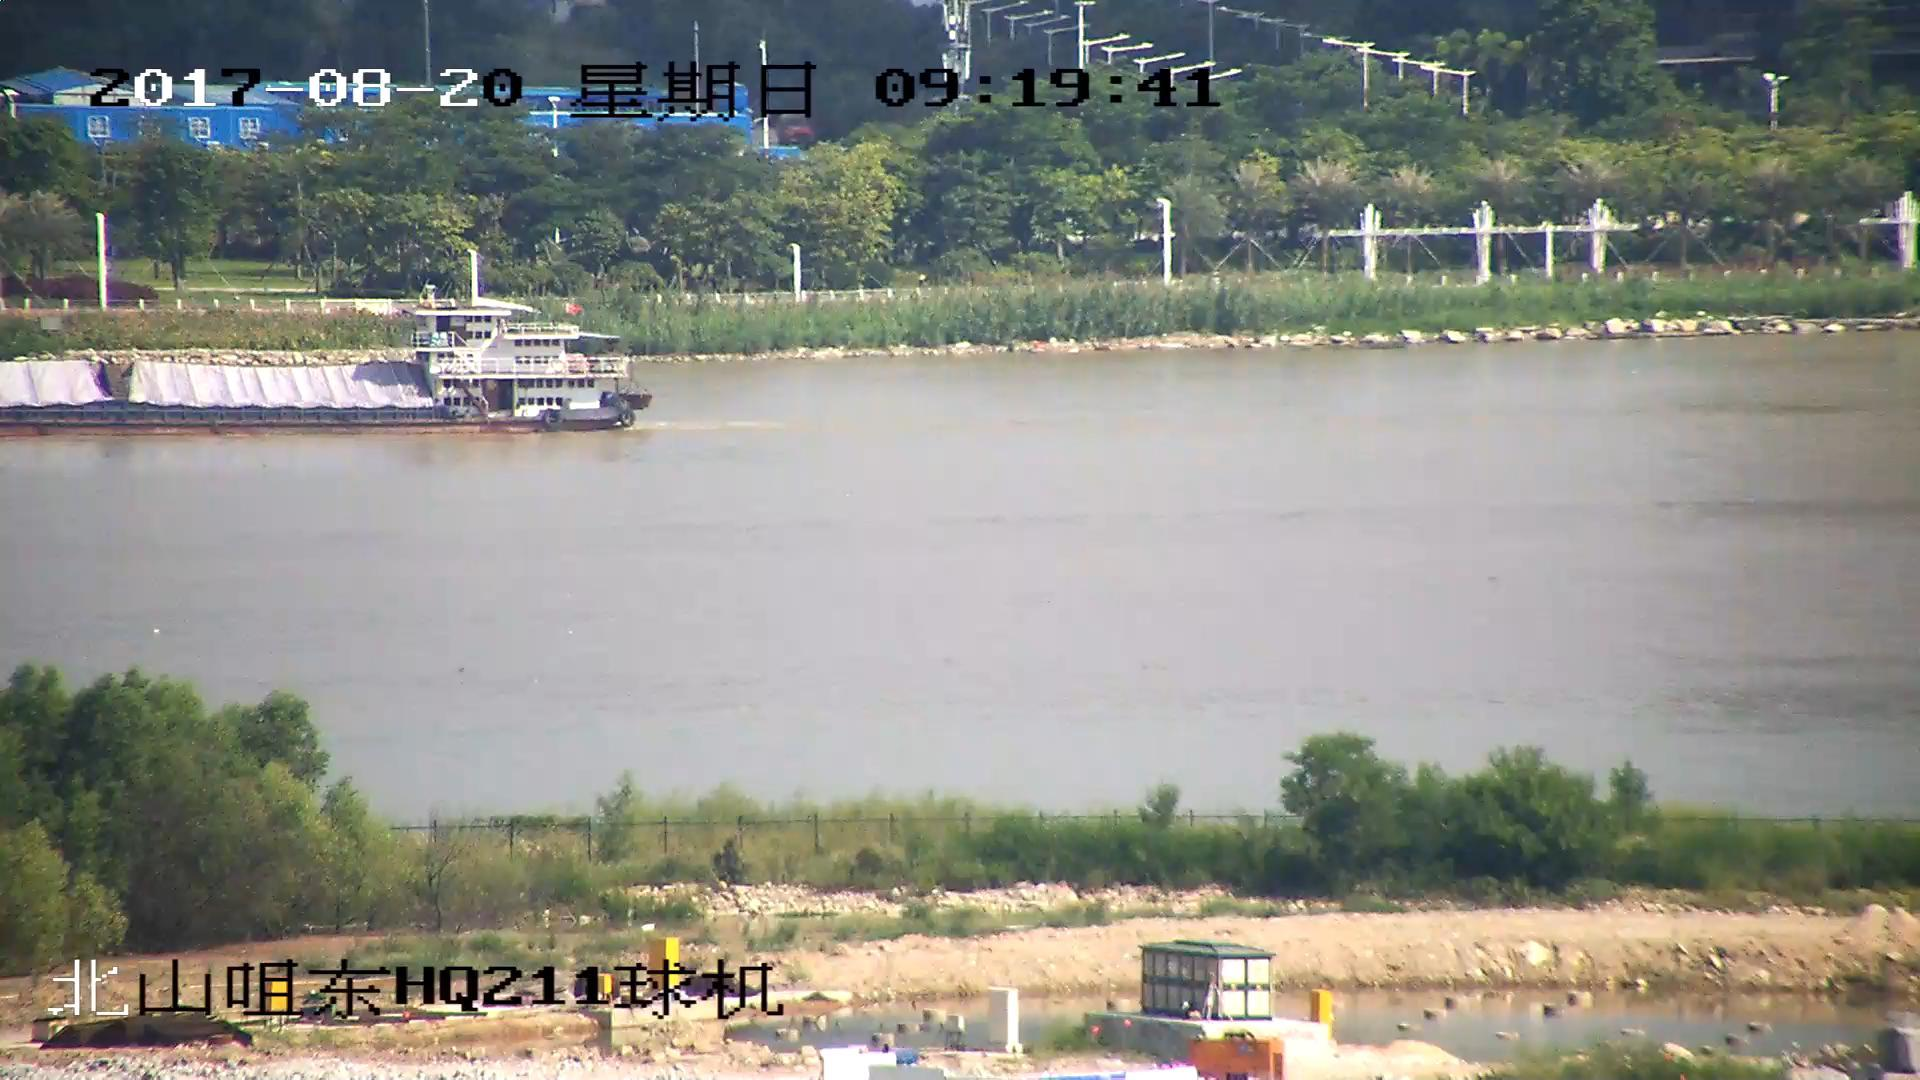Ship: (3, 305, 646, 440)
